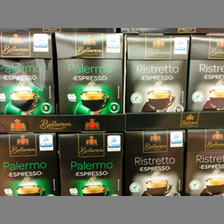coffee: (55, 31, 124, 113), (124, 34, 188, 112), (1, 32, 55, 115), (57, 134, 124, 195), (125, 131, 185, 195), (1, 133, 56, 197), (190, 32, 224, 111), (187, 130, 224, 197)
